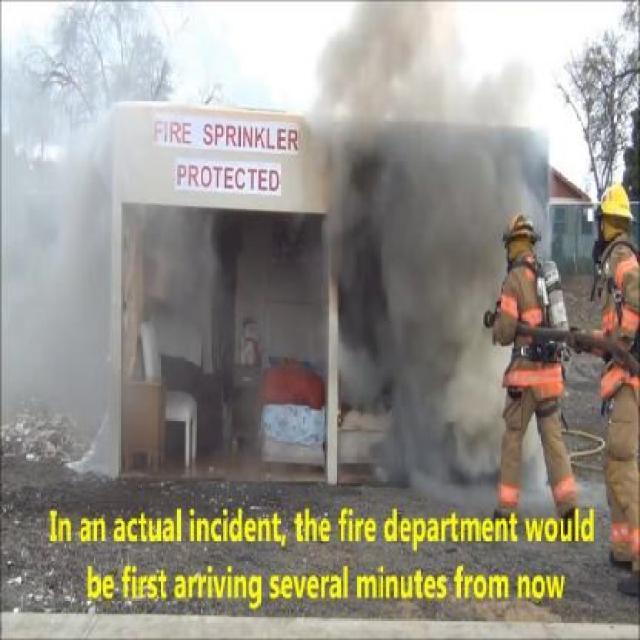smoke: (296, 3, 615, 499), (8, 21, 244, 450)
